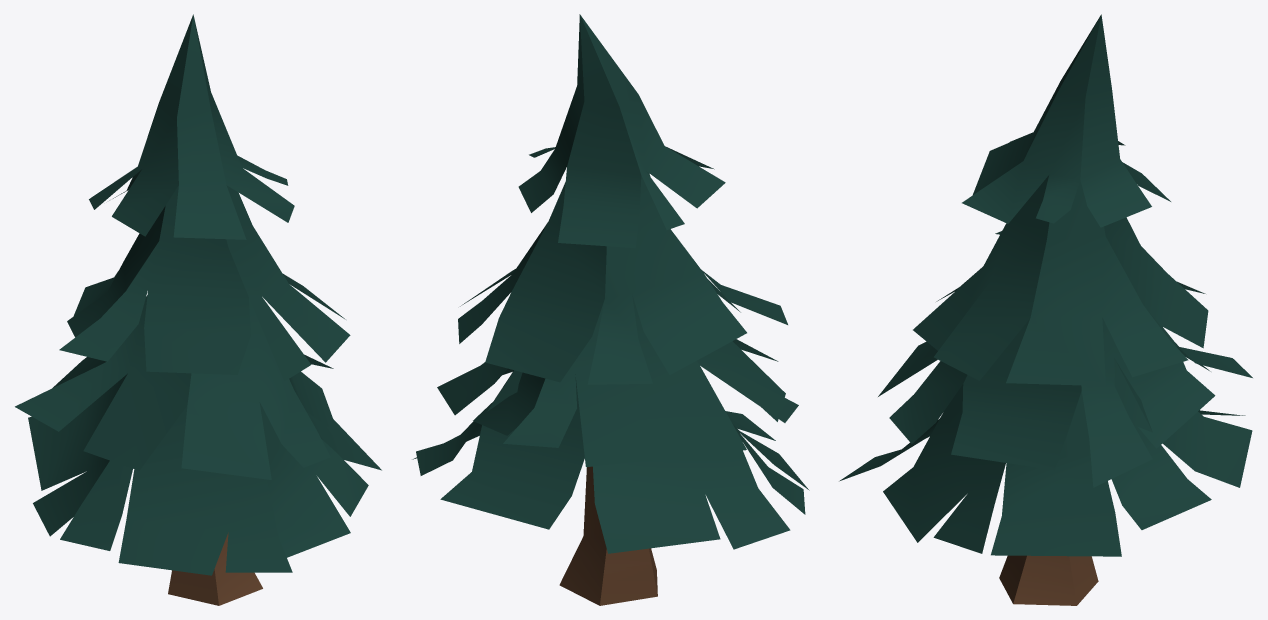
3 renders of one model, left to right at view 1: azimuth 30°, elevation 25°; view 2: azimuth 150°, elevation 25°; view 3: azimuth 270°, elevation 25°, orthographic. The views are drawn at different scales.
Parts seen in each view (by area): view 1: treeA; view 2: treeA; view 3: treeA.
Part boxes in pixels (x1,y1,x2,y2): treeA: [15, 14, 381, 605]; treeA: [412, 14, 809, 605]; treeA: [839, 14, 1252, 605].
Bounding box in the file's own units: 1.39 × 2.19 × 1.43.
1 material, 1 textured.
